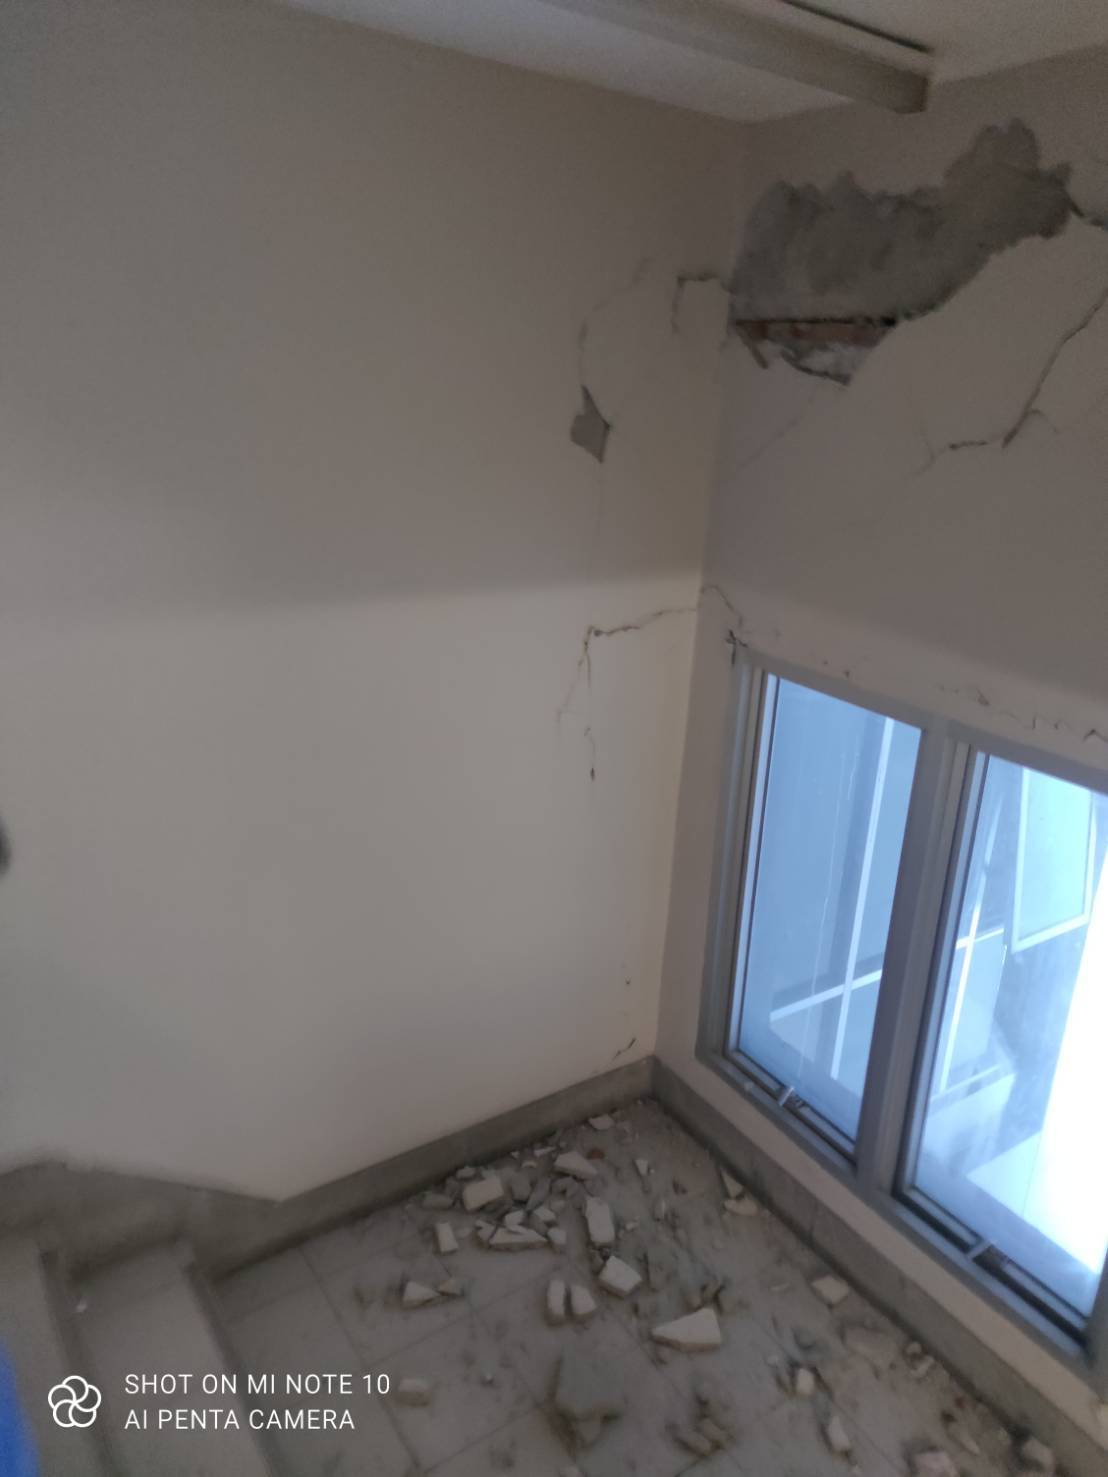Medium: (672, 141, 1102, 505)
